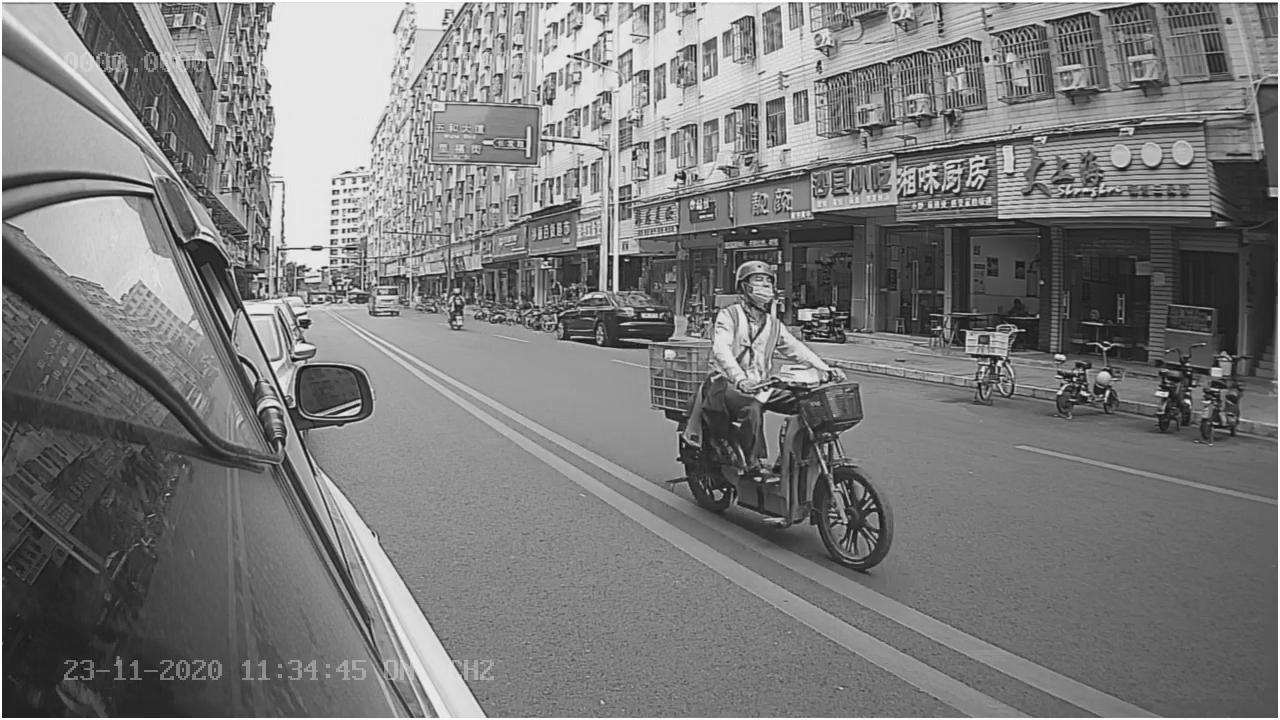person: (706, 254, 825, 390)
